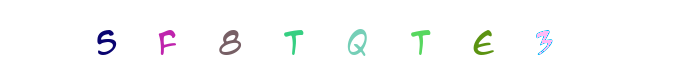3: (442, 0, 522, 80)
8: (176, 0, 256, 80)
E: (348, 0, 428, 80)
F: (126, 0, 206, 80)
Q: (326, 0, 406, 80)
S: (66, 0, 146, 80)
T: (305, 0, 385, 80), (337, 0, 417, 80)
